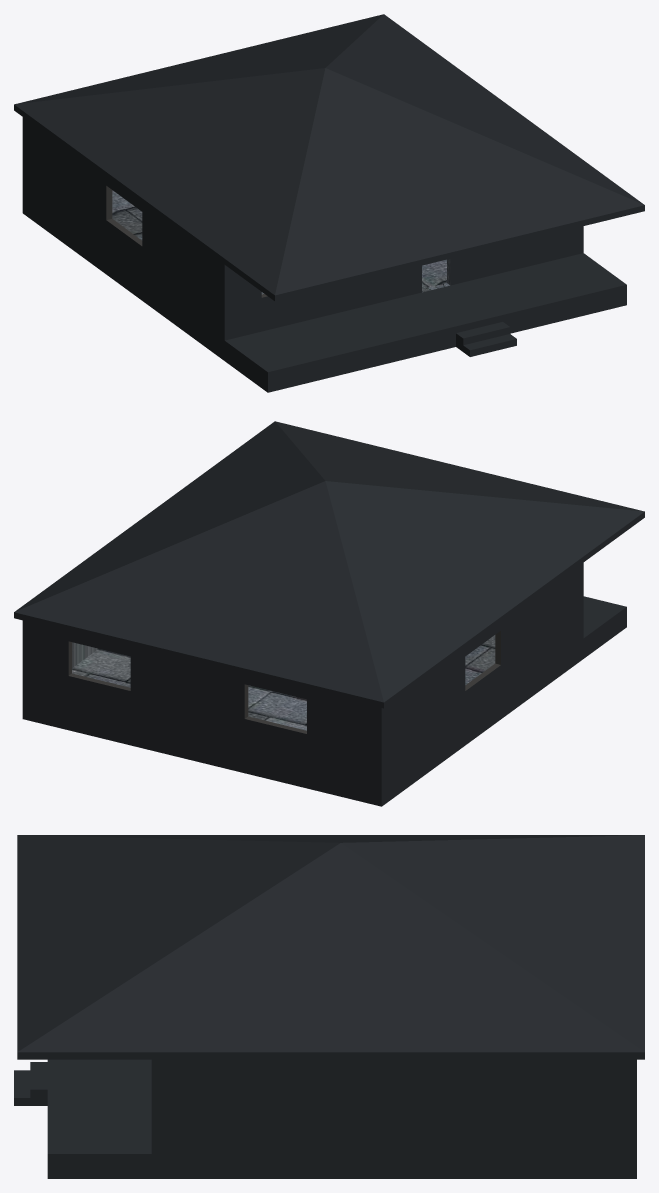
File: Mappi2.fbx
3 renders of one model, top to bottom at view 1: azimuth 30°, elevation 25°; view 2: azimuth 150°, elevation 25°; view 3: azimuth 270°, elevation 25°, orthographic. The views are drawn at different scales.
Parts seen in each view (by area): view 1: Plane; view 2: Plane; view 3: Plane.
Boxes of the visible parts, x1,y1,x2,y2 form: Plane: (14, 14, 644, 392); Plane: (14, 421, 644, 806); Plane: (14, 835, 644, 1178).
Size of the model in its own units: 1983 by 2435 by 982.
